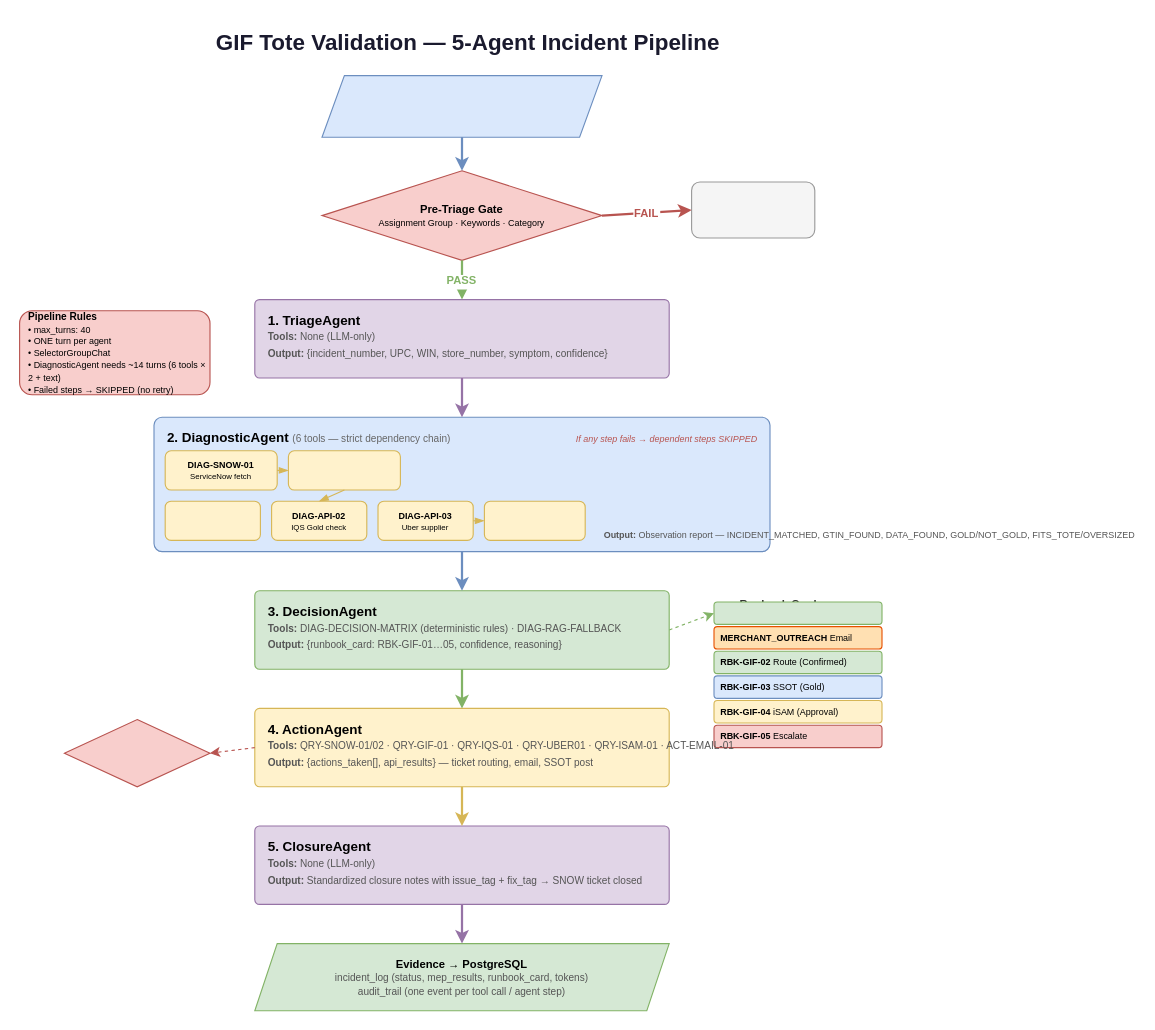
Image size: 1155x1030. Some labels were removed from this diagram. Here are the shapes that lost their labels. From the top down, the centre of each, then its label:
[461,105]: Incident Number POST /a2a/work-item/process {"incident_number": "INC52148837"}
[752,209]: SKIP status=skipped zero LLM cost
[343,470]: DIAG-UBERKEYS UPC/WIN→GTIN
[212,520]: DIAG-API-01 GIF dimensions
[534,520]: DIAG-LOGIC-01 Tote fit check
[797,612]: RBK-GIF-01 Auto-Route
[136,752]: Approval Gate RBK-GIF-04 only Slack · 30min timeout
